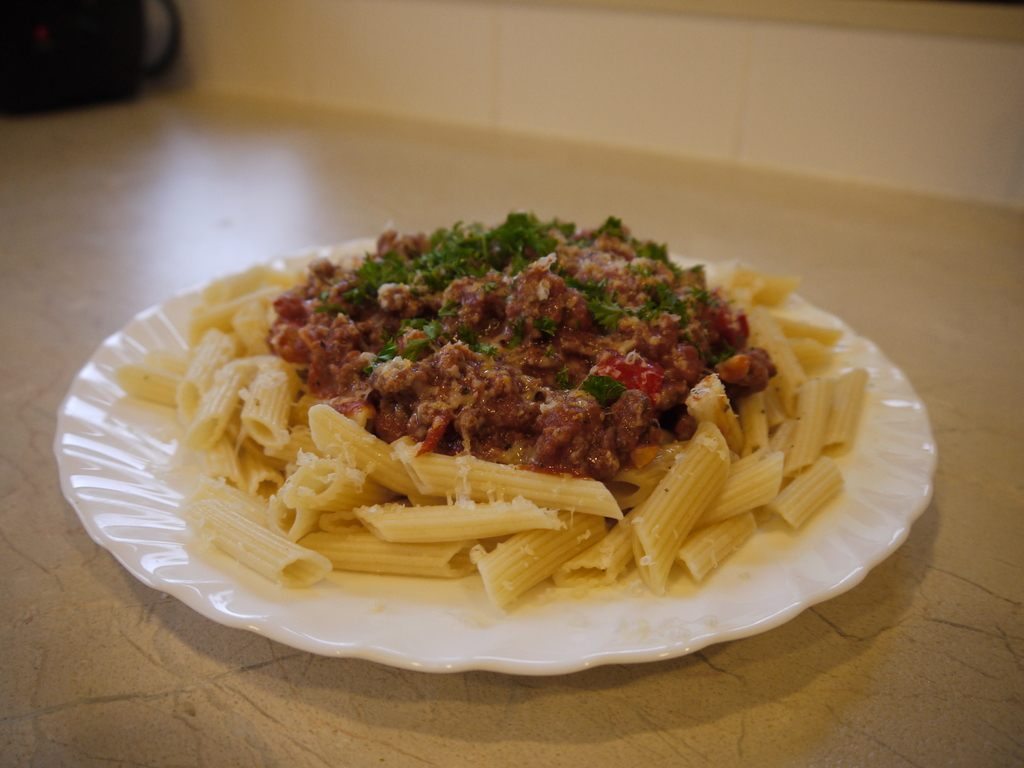pasta: (92, 216, 929, 614)
